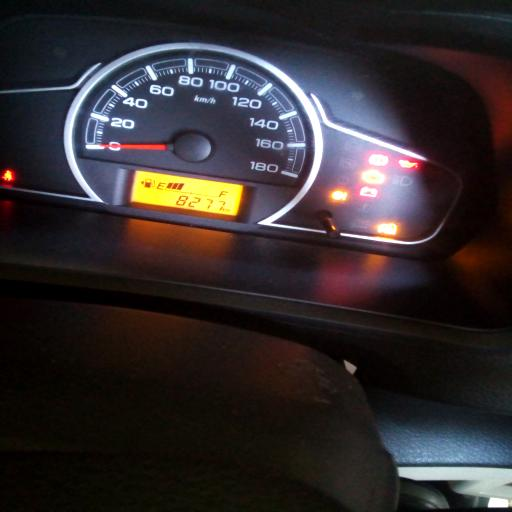belt: (1, 169, 15, 181)
oil: (397, 160, 419, 170)
vehicle_charging: (359, 186, 378, 198)
